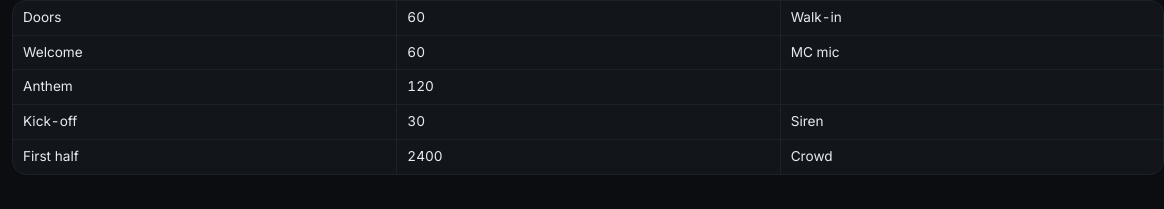
spreadsheet keys › pastes a block from a spreadsheet, adds rows past the end, and one undo takes it all back
What coordinates should you click on to do the following:
click the cell "Kick-off"
I would click on:
 (205, 122)
Its box is x1=13 y1=105 x2=396 y2=140.
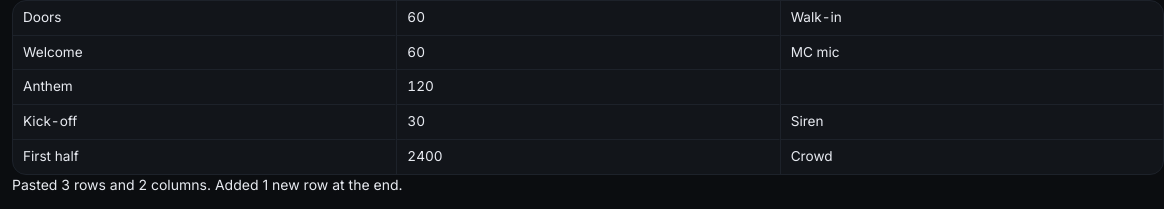
Check: the text with class "grid-note-test" shows "Pasted 3 rows and 2 columns. Added 1 new row", box x1=12 y1=176 x2=403 y2=192
